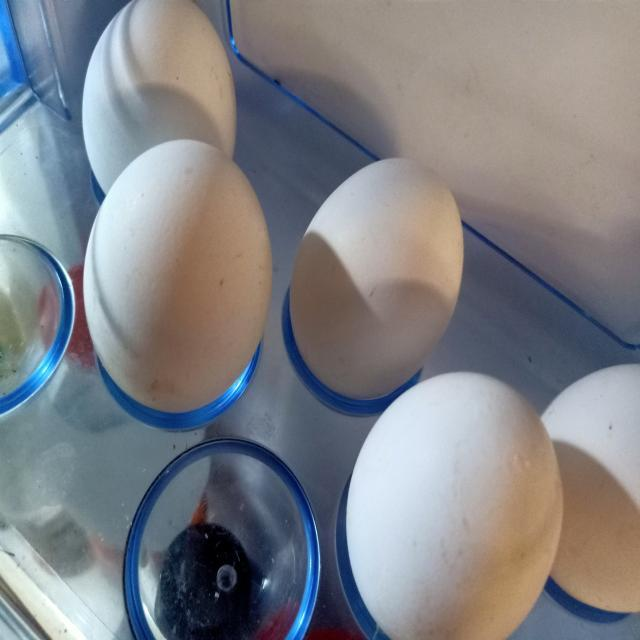Egg: (334, 372, 565, 640), (81, 135, 275, 417), (286, 157, 467, 416), (82, 0, 239, 191), (541, 359, 640, 620)
